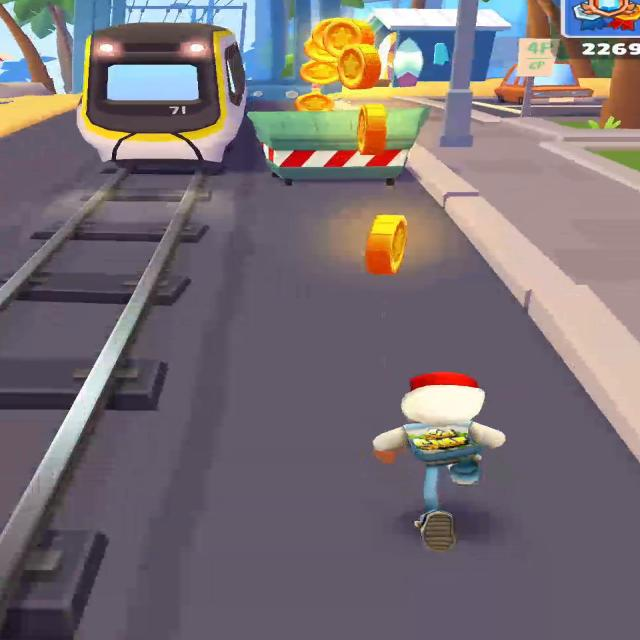roll blocker: (248, 107, 428, 185)
train: (77, 19, 252, 160)
